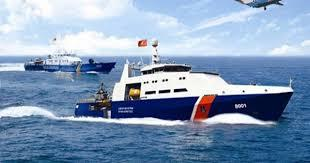Ship: (75, 42, 294, 121), (25, 36, 117, 73)
